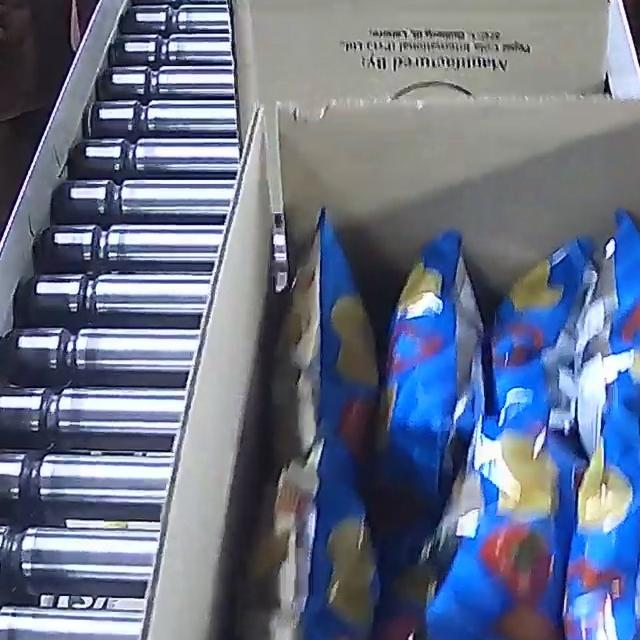paprika: (252, 203, 640, 640)
